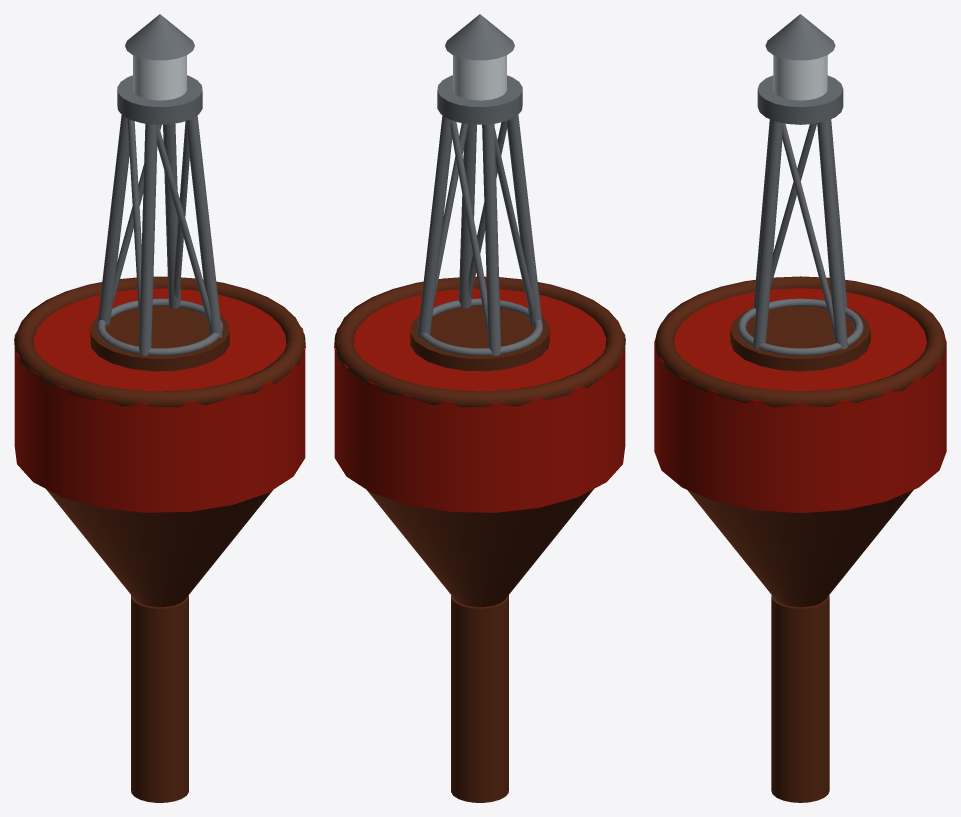
File: adrift-buoy.glb
3 renders of one model, left to right at view 1: azimuth 30°, elevation 25°; view 2: azimuth 150°, elevation 25°; view 3: azimuth 270°, elevation 25°, orthographic.
Parts seen in each view (by area): view 1: can, skirt, tail, rim, deck-collar, leg1, leg0, leg2, lantern-platform, lantern, cap, leg3 (+5 smaller); view 2: can, skirt, tail, rim, deck-collar, leg2, leg3, lantern-platform, leg1, lantern, cap, leg0 (+5 smaller); view 3: can, skirt, tail, rim, deck-collar, leg0, leg3, lantern-platform, lantern, cap, lower-ring, brace3 (+3 smaller).
Part boxes in pixels (left/top/right/bottom): can: left=14, top=288, right=305, bottom=512; skirt: left=46, top=489, right=272, bottom=607; tail: left=131, top=595, right=188, bottom=802; rim: left=14, top=276, right=305, bottom=407; deck-collar: left=90, top=306, right=229, bottom=371; leg1: left=139, top=123, right=157, bottom=355; leg0: left=185, top=115, right=222, bottom=337; leg2: left=97, top=115, right=129, bottom=325; lantern-platform: left=117, top=75, right=202, bottom=124; lantern: left=133, top=55, right=186, bottom=100; cap: left=125, top=14, right=194, bottom=60; leg3: left=163, top=123, right=180, bottom=308; can: left=334, top=288, right=625, bottom=512; skirt: left=367, top=489, right=593, bottom=607; tail: left=451, top=595, right=508, bottom=802; rim: left=334, top=276, right=625, bottom=407; deck-collar: left=410, top=306, right=549, bottom=371; leg2: left=482, top=123, right=500, bottom=355; leg3: left=417, top=115, right=452, bottom=337; lantern-platform: left=437, top=75, right=522, bottom=124; leg1: left=506, top=115, right=542, bottom=325; lantern: left=453, top=55, right=506, bottom=100; cap: left=445, top=14, right=514, bottom=60; leg0: left=459, top=124, right=476, bottom=308; can: left=654, top=288, right=946, bottom=512; skirt: left=687, top=490, right=913, bottom=607; tail: left=771, top=595, right=829, bottom=802; rim: left=654, top=276, right=946, bottom=406; deck-collar: left=730, top=306, right=870, bottom=371; leg0: left=753, top=120, right=782, bottom=349; leg3: left=817, top=120, right=847, bottom=349; lantern-platform: left=757, top=75, right=843, bottom=124; lantern: left=773, top=55, right=827, bottom=100; cap: left=765, top=14, right=835, bottom=60; lower-ring: left=737, top=298, right=863, bottom=355; brace3: left=782, top=123, right=834, bottom=334.
Size of the model in its own units: 1.5 by 4.39 by 1.5.
